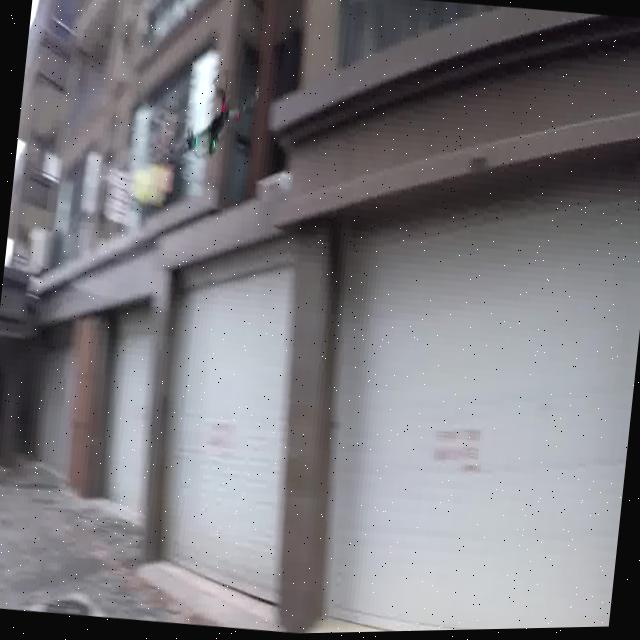drone: (156, 70, 270, 171)
